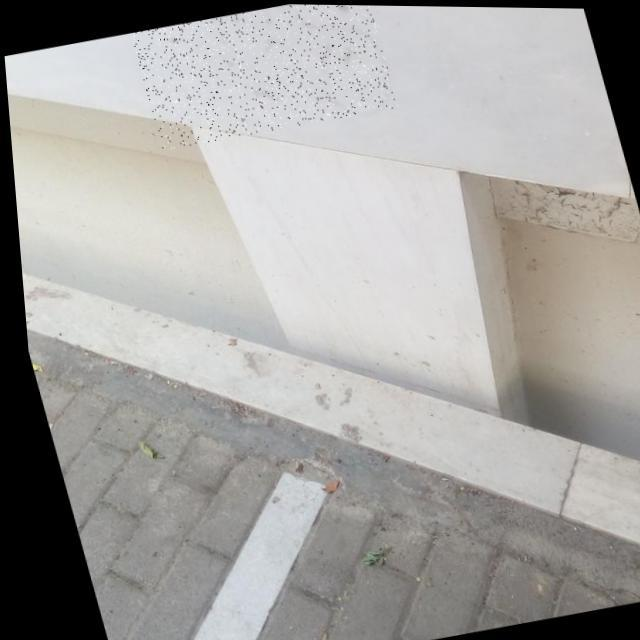-: (128, 2, 399, 152)
